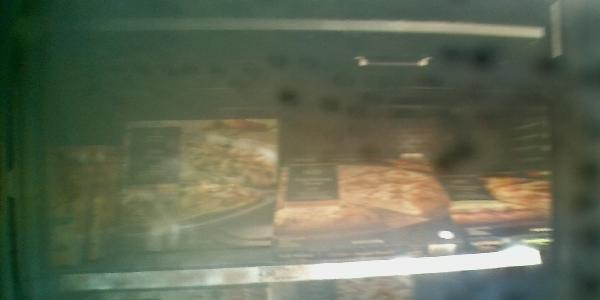pizza: (116, 120, 280, 263), (280, 161, 457, 253)
